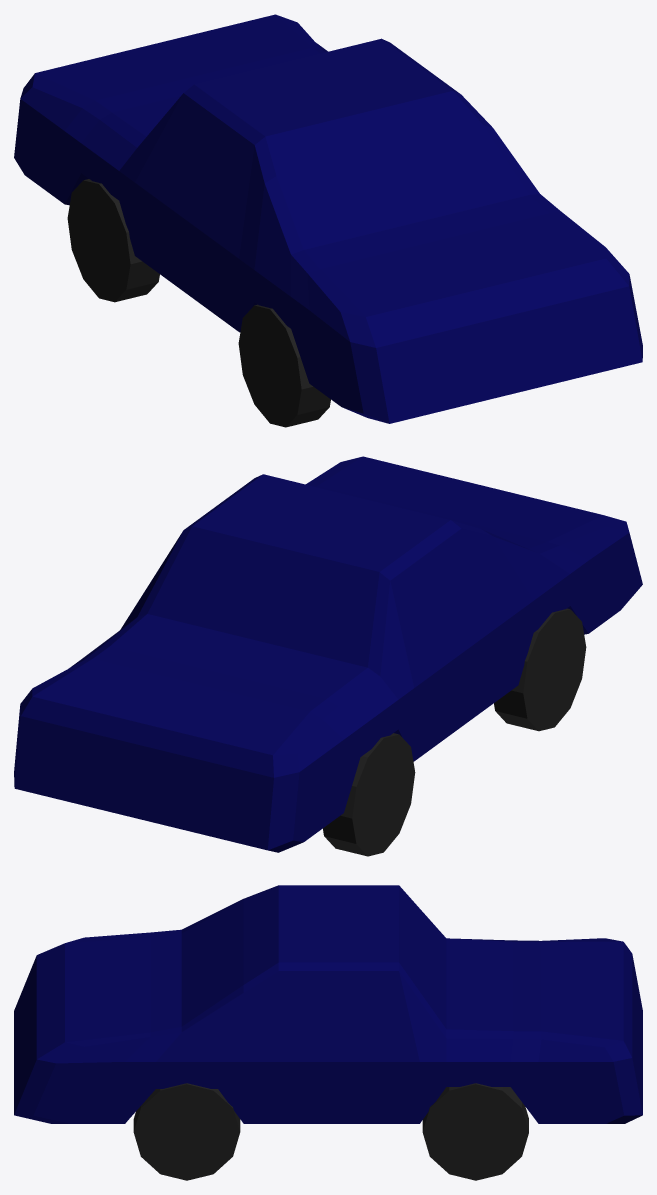
File: Car03.fbx
The picture shows the model from 3 angles, top to bottom: view 1: azimuth 30°, elevation 25°; view 2: azimuth 150°, elevation 25°; view 3: azimuth 270°, elevation 25°; orthographic projection. The views are drawn at different scales.
Parts seen in each view (by area): view 1: polySurface1, polySurface2, polySurface3; view 2: polySurface1, polySurface3, polySurface2; view 3: polySurface1, polySurface5, polySurface4.
Boxes of the visible parts, bbox=[...] form: polySurface1: bbox=[14, 14, 642, 423]; polySurface2: bbox=[238, 304, 330, 427]; polySurface3: bbox=[67, 179, 159, 302]; polySurface1: bbox=[14, 456, 642, 852]; polySurface3: bbox=[323, 733, 415, 856]; polySurface2: bbox=[494, 608, 586, 731]; polySurface1: bbox=[14, 885, 642, 1123]; polySurface5: bbox=[422, 1083, 528, 1180]; polySurface4: bbox=[133, 1083, 240, 1180].
Bounding box in the file's own units: 4.68 × 3.7 × 10.6.
